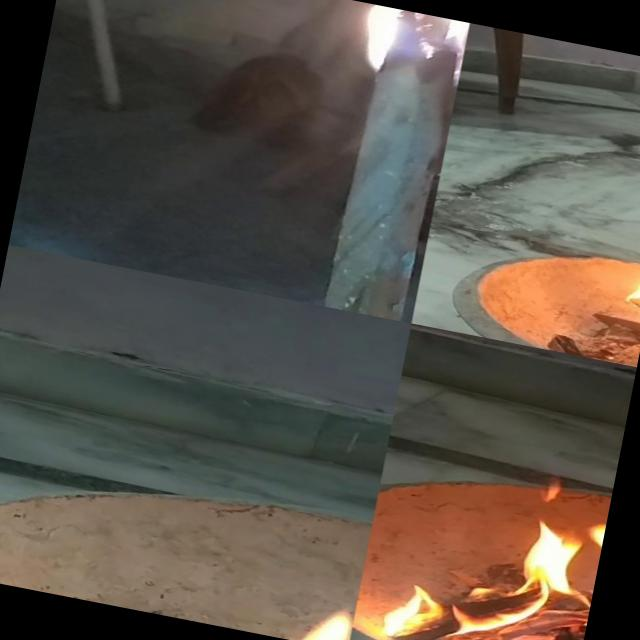fire: (363, 469, 608, 640), (0, 528, 359, 640), (315, 0, 470, 86), (612, 257, 640, 366)
